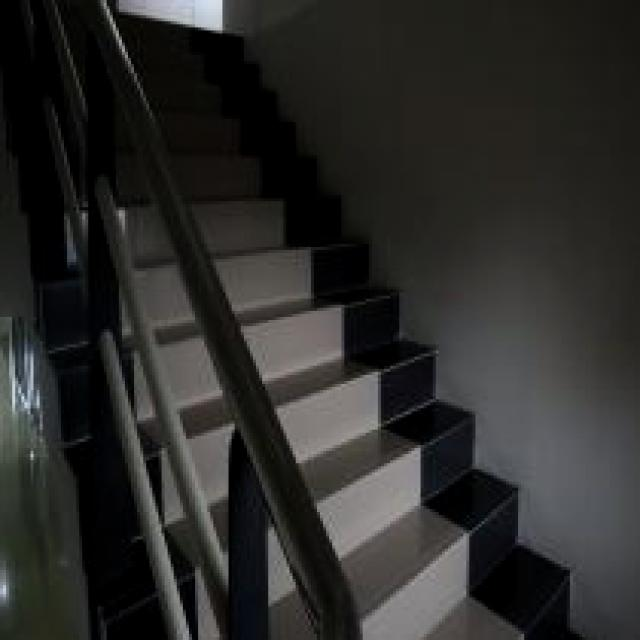upstair: (217, 172, 379, 355)
